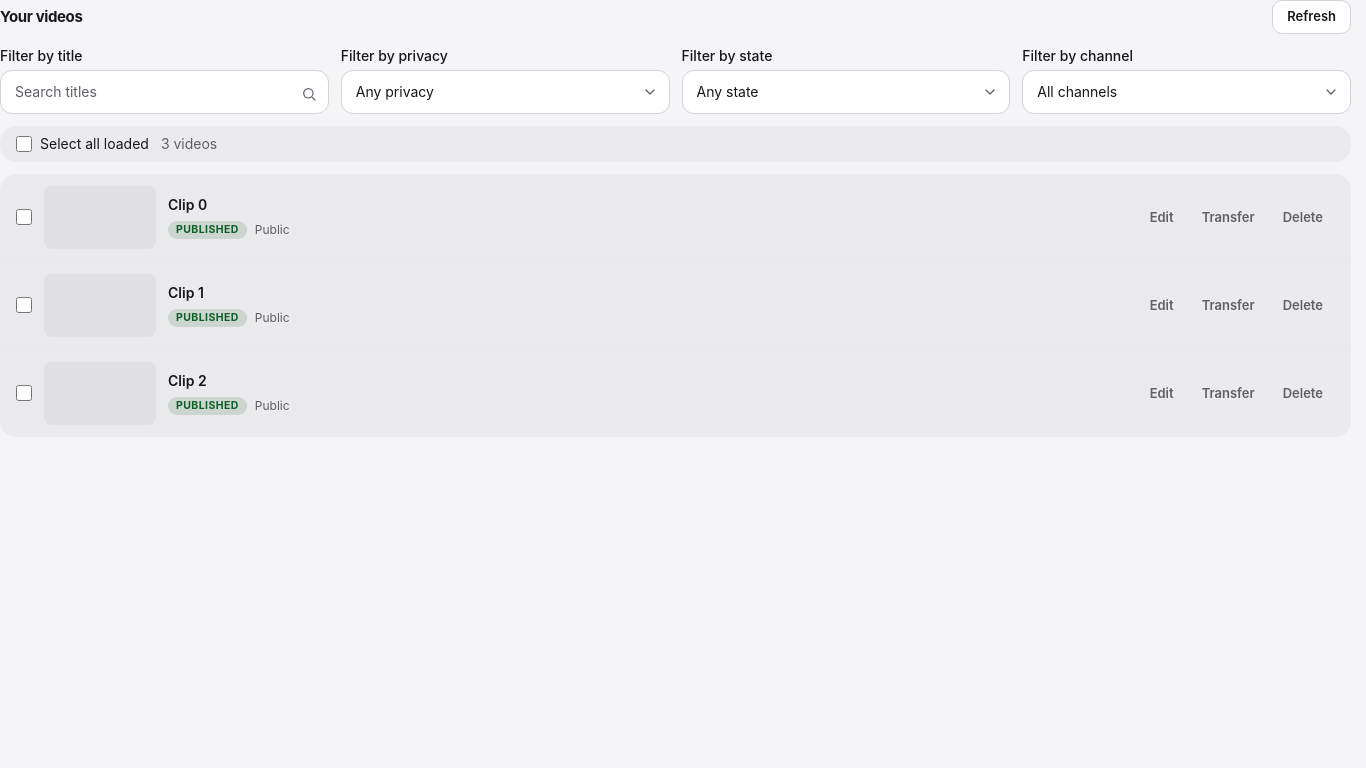
Scenario: MyVideosManager bulk actions › says nothing changed only when the server refused the request (4xx)
Expected: the link "Clip 0" is shown, [168,196,207,213]
Click the checkbox named "Include Clip 0 in bulk actions": (24, 217) [16,209,32,225]
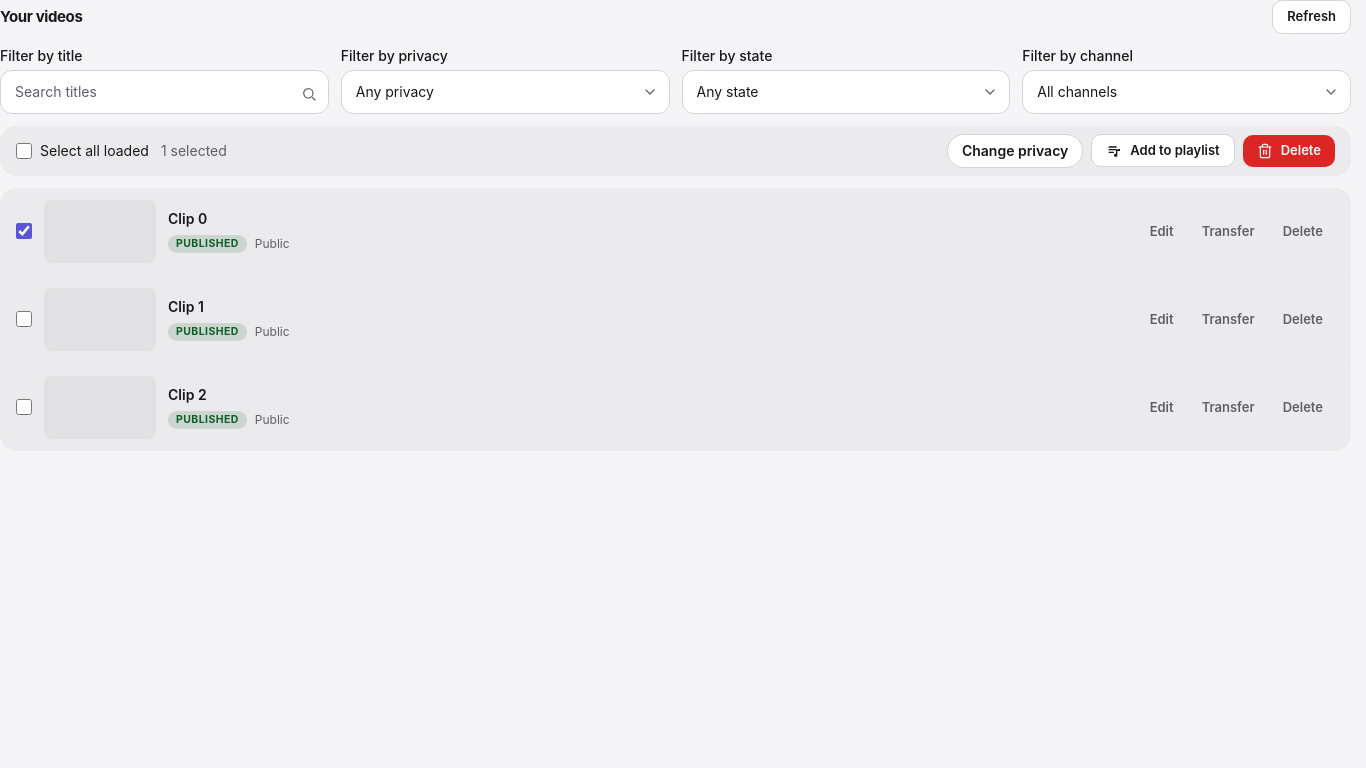
Click the button "Change privacy": (1015, 150) [947,134,1083,168]
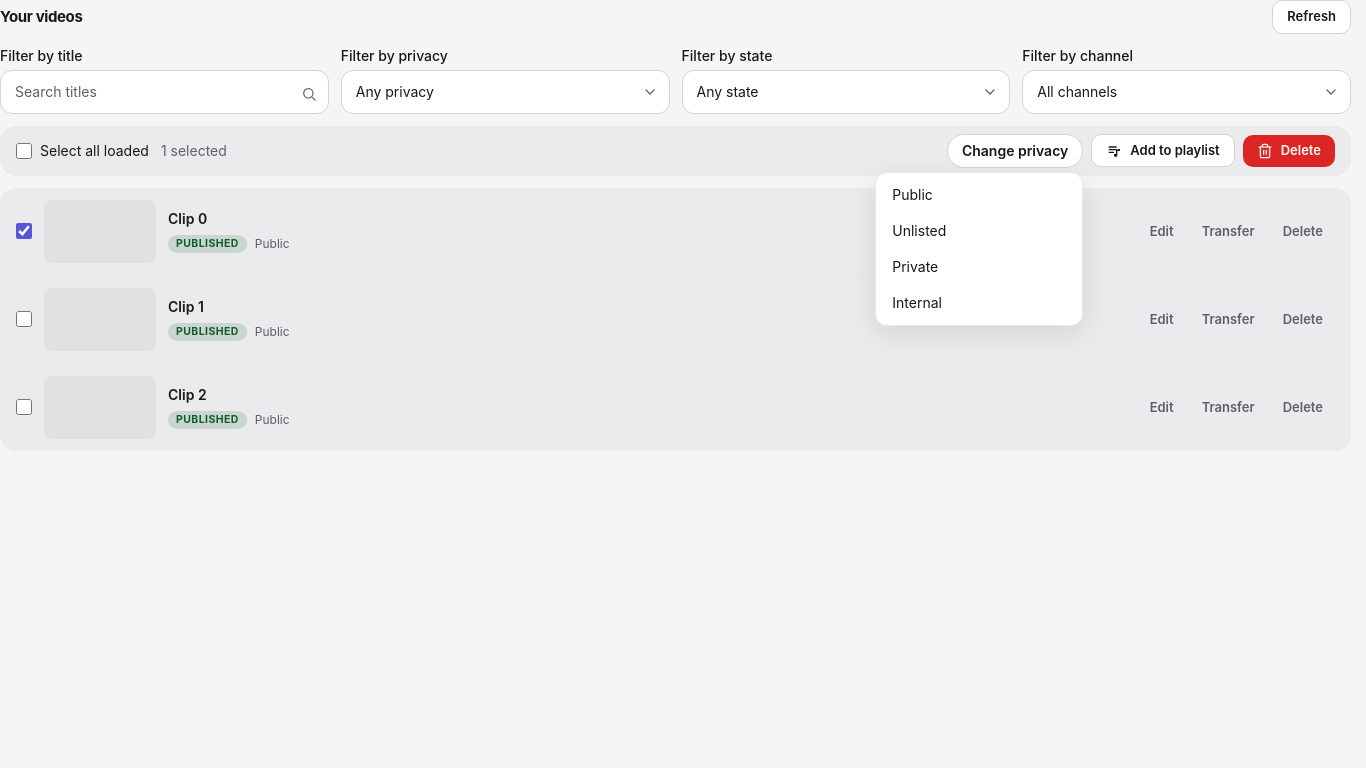
Click the menu item "Internal": (979, 302) [880,284,1078,320]
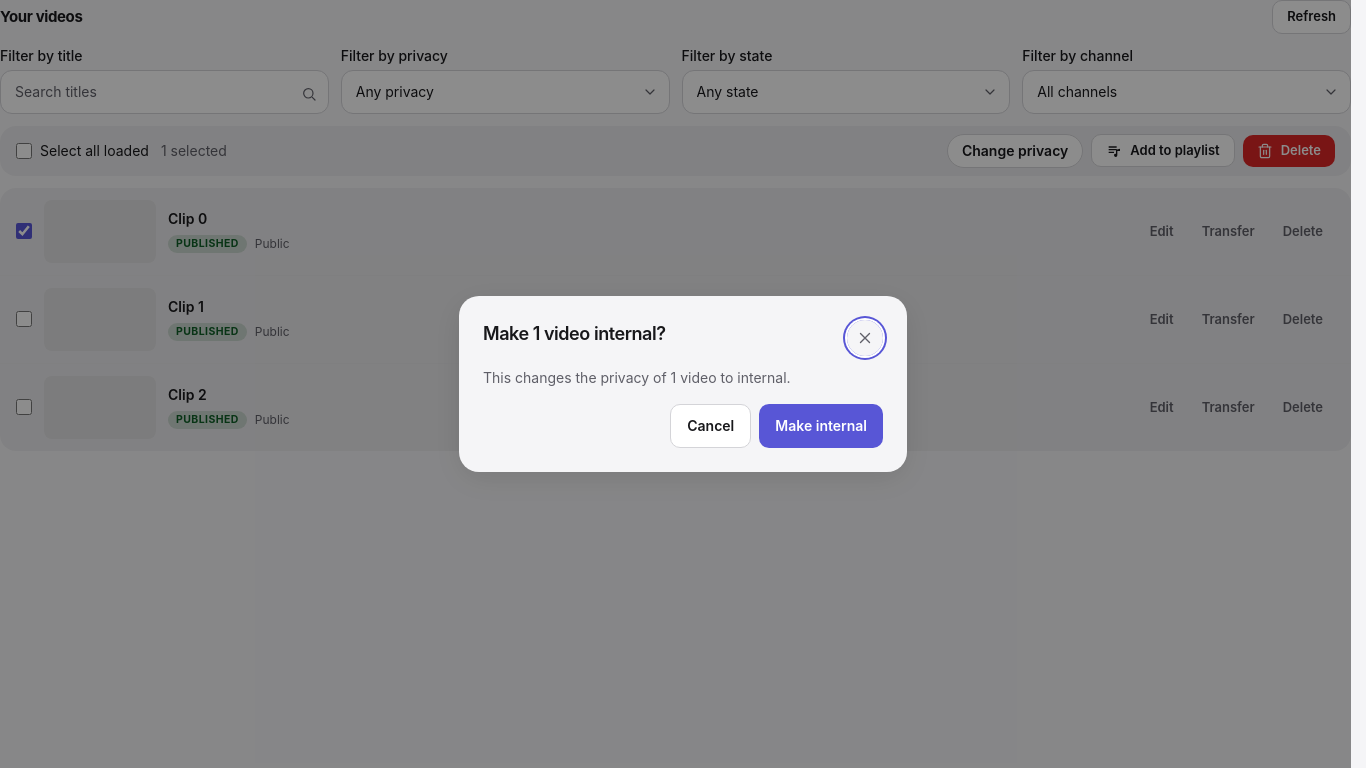
Click the button "Make internal": (821, 426) [759,404,883,448]
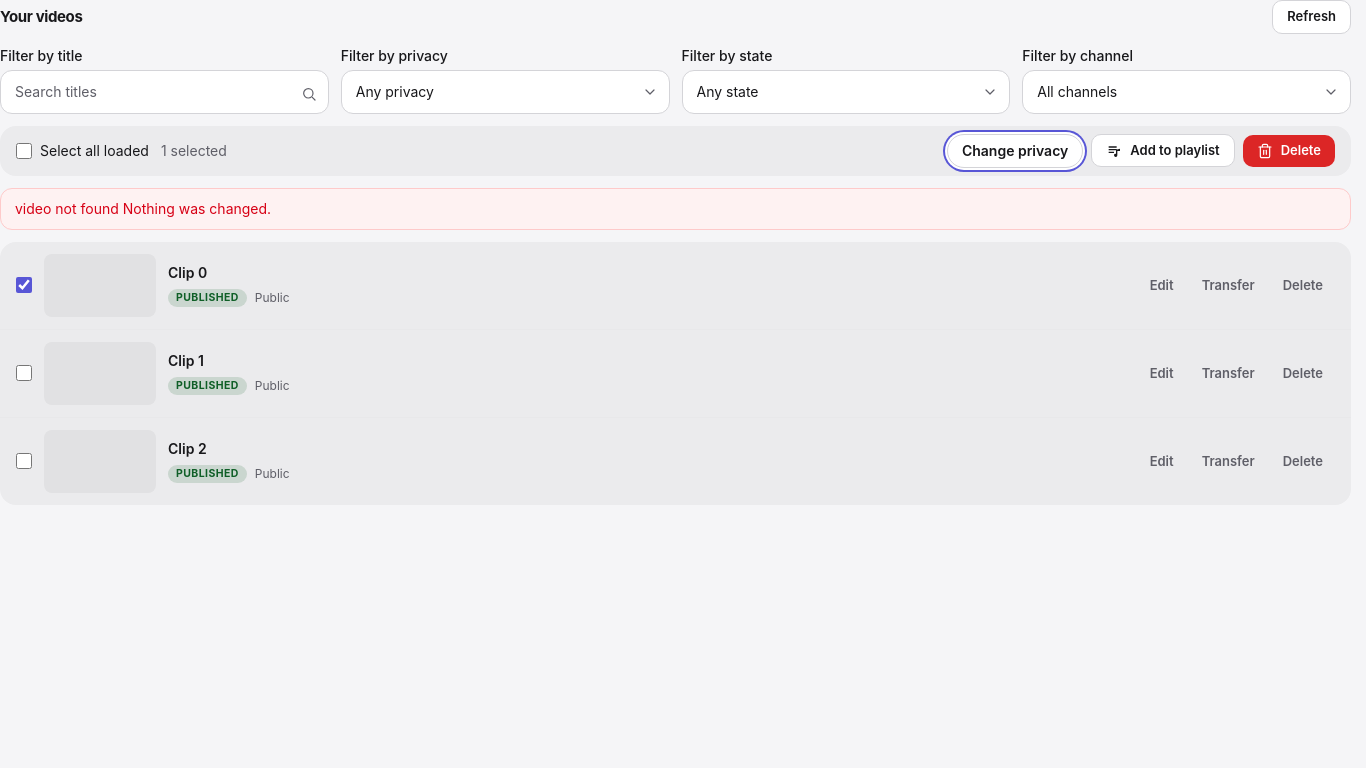
Now the text "video not found Nothing was changed." is shown, box [0,188,1351,230]
